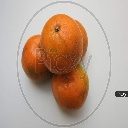orange: (40, 13, 84, 74)
